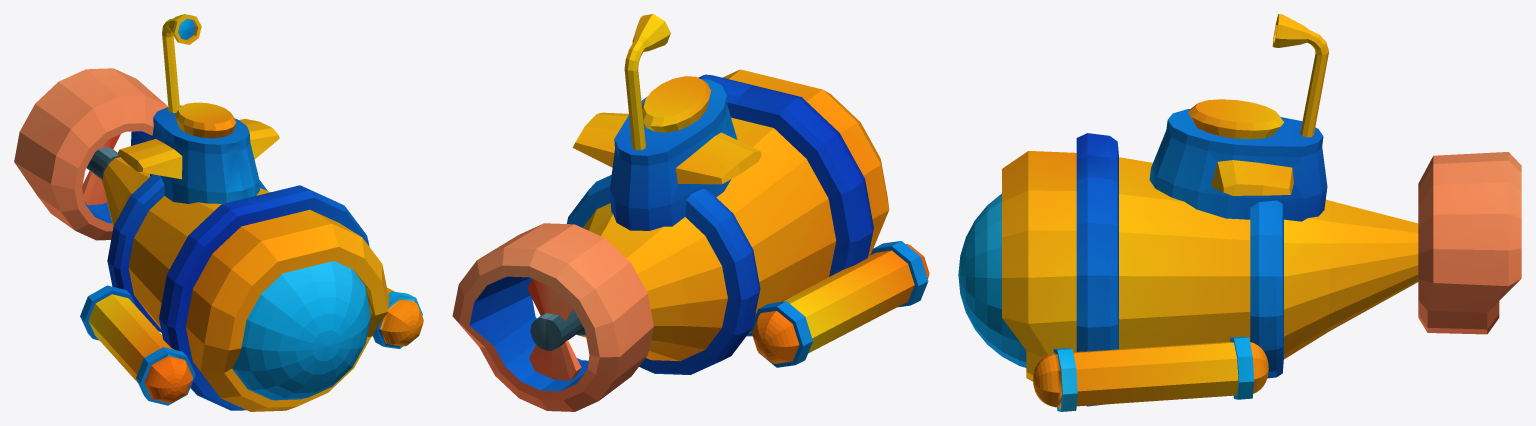
File: submarine.glb
3 views of the same model, side by side, from view 1: azimuth 30°, elevation 25°; view 2: azimuth 150°, elevation 25°; view 3: azimuth 270°, elevation 25° (orthographic). The views are drawn at different scales.
Visible parts, largest first — view 1: submarine_hull, submarine_periscope, submarine_propeller; view 2: submarine_hull, submarine_periscope, submarine_propeller; view 3: submarine_hull, submarine_periscope.
Part boxes in pixels (x1,y1,x2,y2): submarine_hull: (14,68,423,411); submarine_periscope: (162,14,201,112); submarine_propeller: (82,134,120,205); submarine_hull: (452,69,929,411); submarine_periscope: (624,14,670,150); submarine_propeller: (527,279,581,380); submarine_hull: (958,99,1521,411); submarine_periscope: (1272,14,1328,137).
Size of the model in its own units: 5.83 by 6.57 by 8.84.
1 material, 1 textured.
